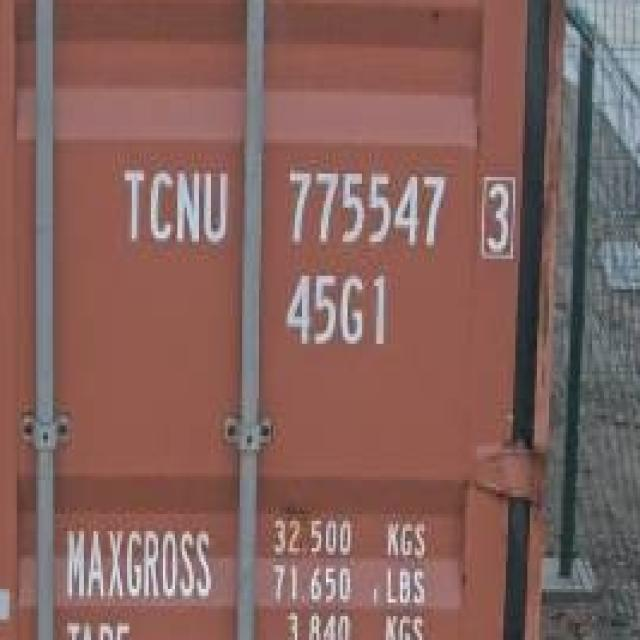dv: (472, 166, 522, 265)
owner: (117, 154, 235, 253)
serial: (280, 156, 453, 255)
size: (274, 266, 396, 351)
